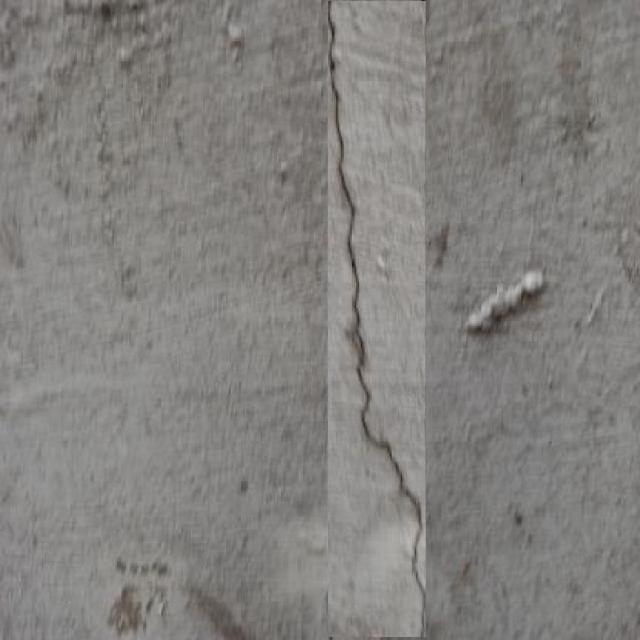vertical crack: (328, 2, 425, 637)
